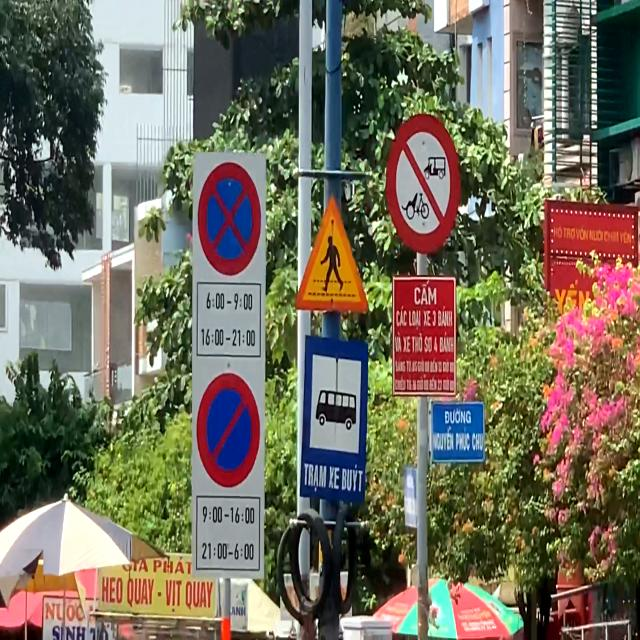P.130: (195, 158, 264, 282)
P.131a: (194, 364, 264, 496)
W.224: (290, 189, 374, 319)
